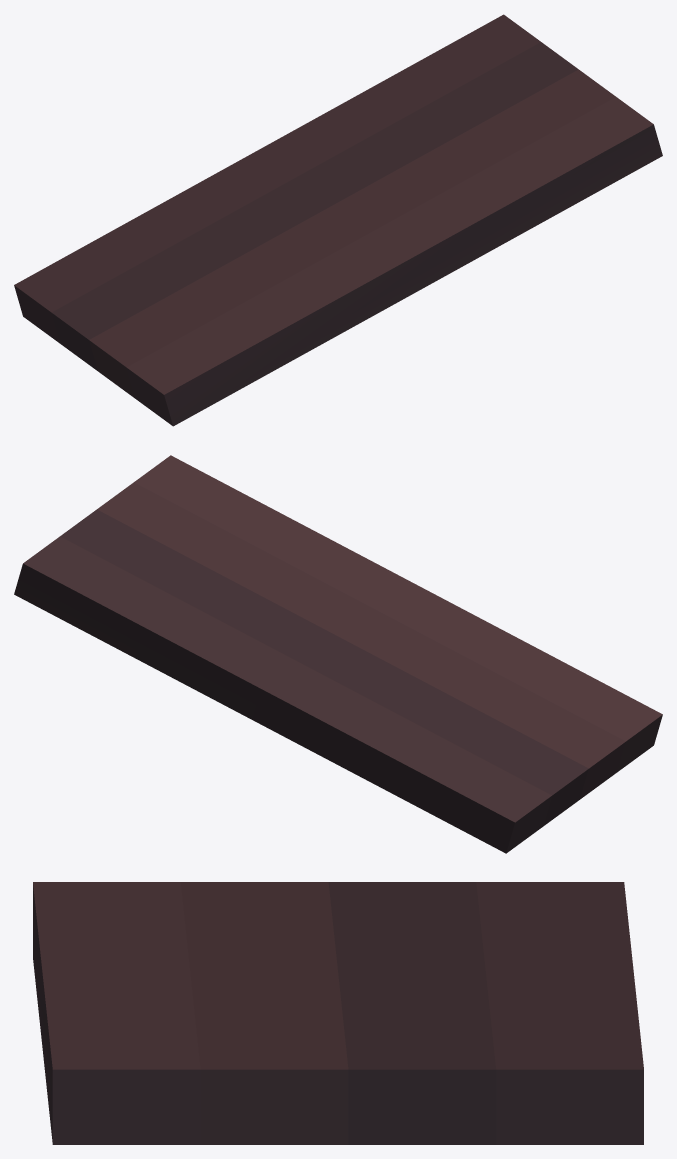
The model's file is MarketPlank.FBX.
The picture shows the model from 3 angles, top to bottom: view 1: azimuth 30°, elevation 25°; view 2: azimuth 150°, elevation 25°; view 3: azimuth 270°, elevation 25°; orthographic projection. The views are drawn at different scales.
Parts seen in each view (by area): view 1: Plank; view 2: Plank; view 3: Plank.
Part boxes in pixels (x1,y1,x2,y2): Plank: (14, 14, 662, 426); Plank: (14, 455, 662, 853); Plank: (33, 882, 643, 1144).
Size of the model in its own units: 213 by 72.68 by 114.
